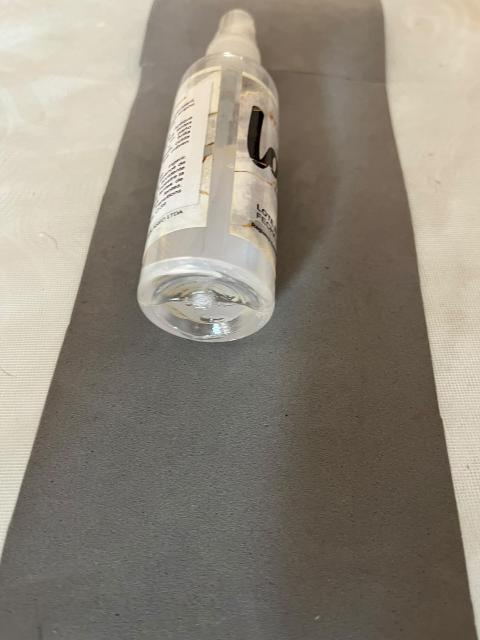PET: (111, 0, 327, 382)
